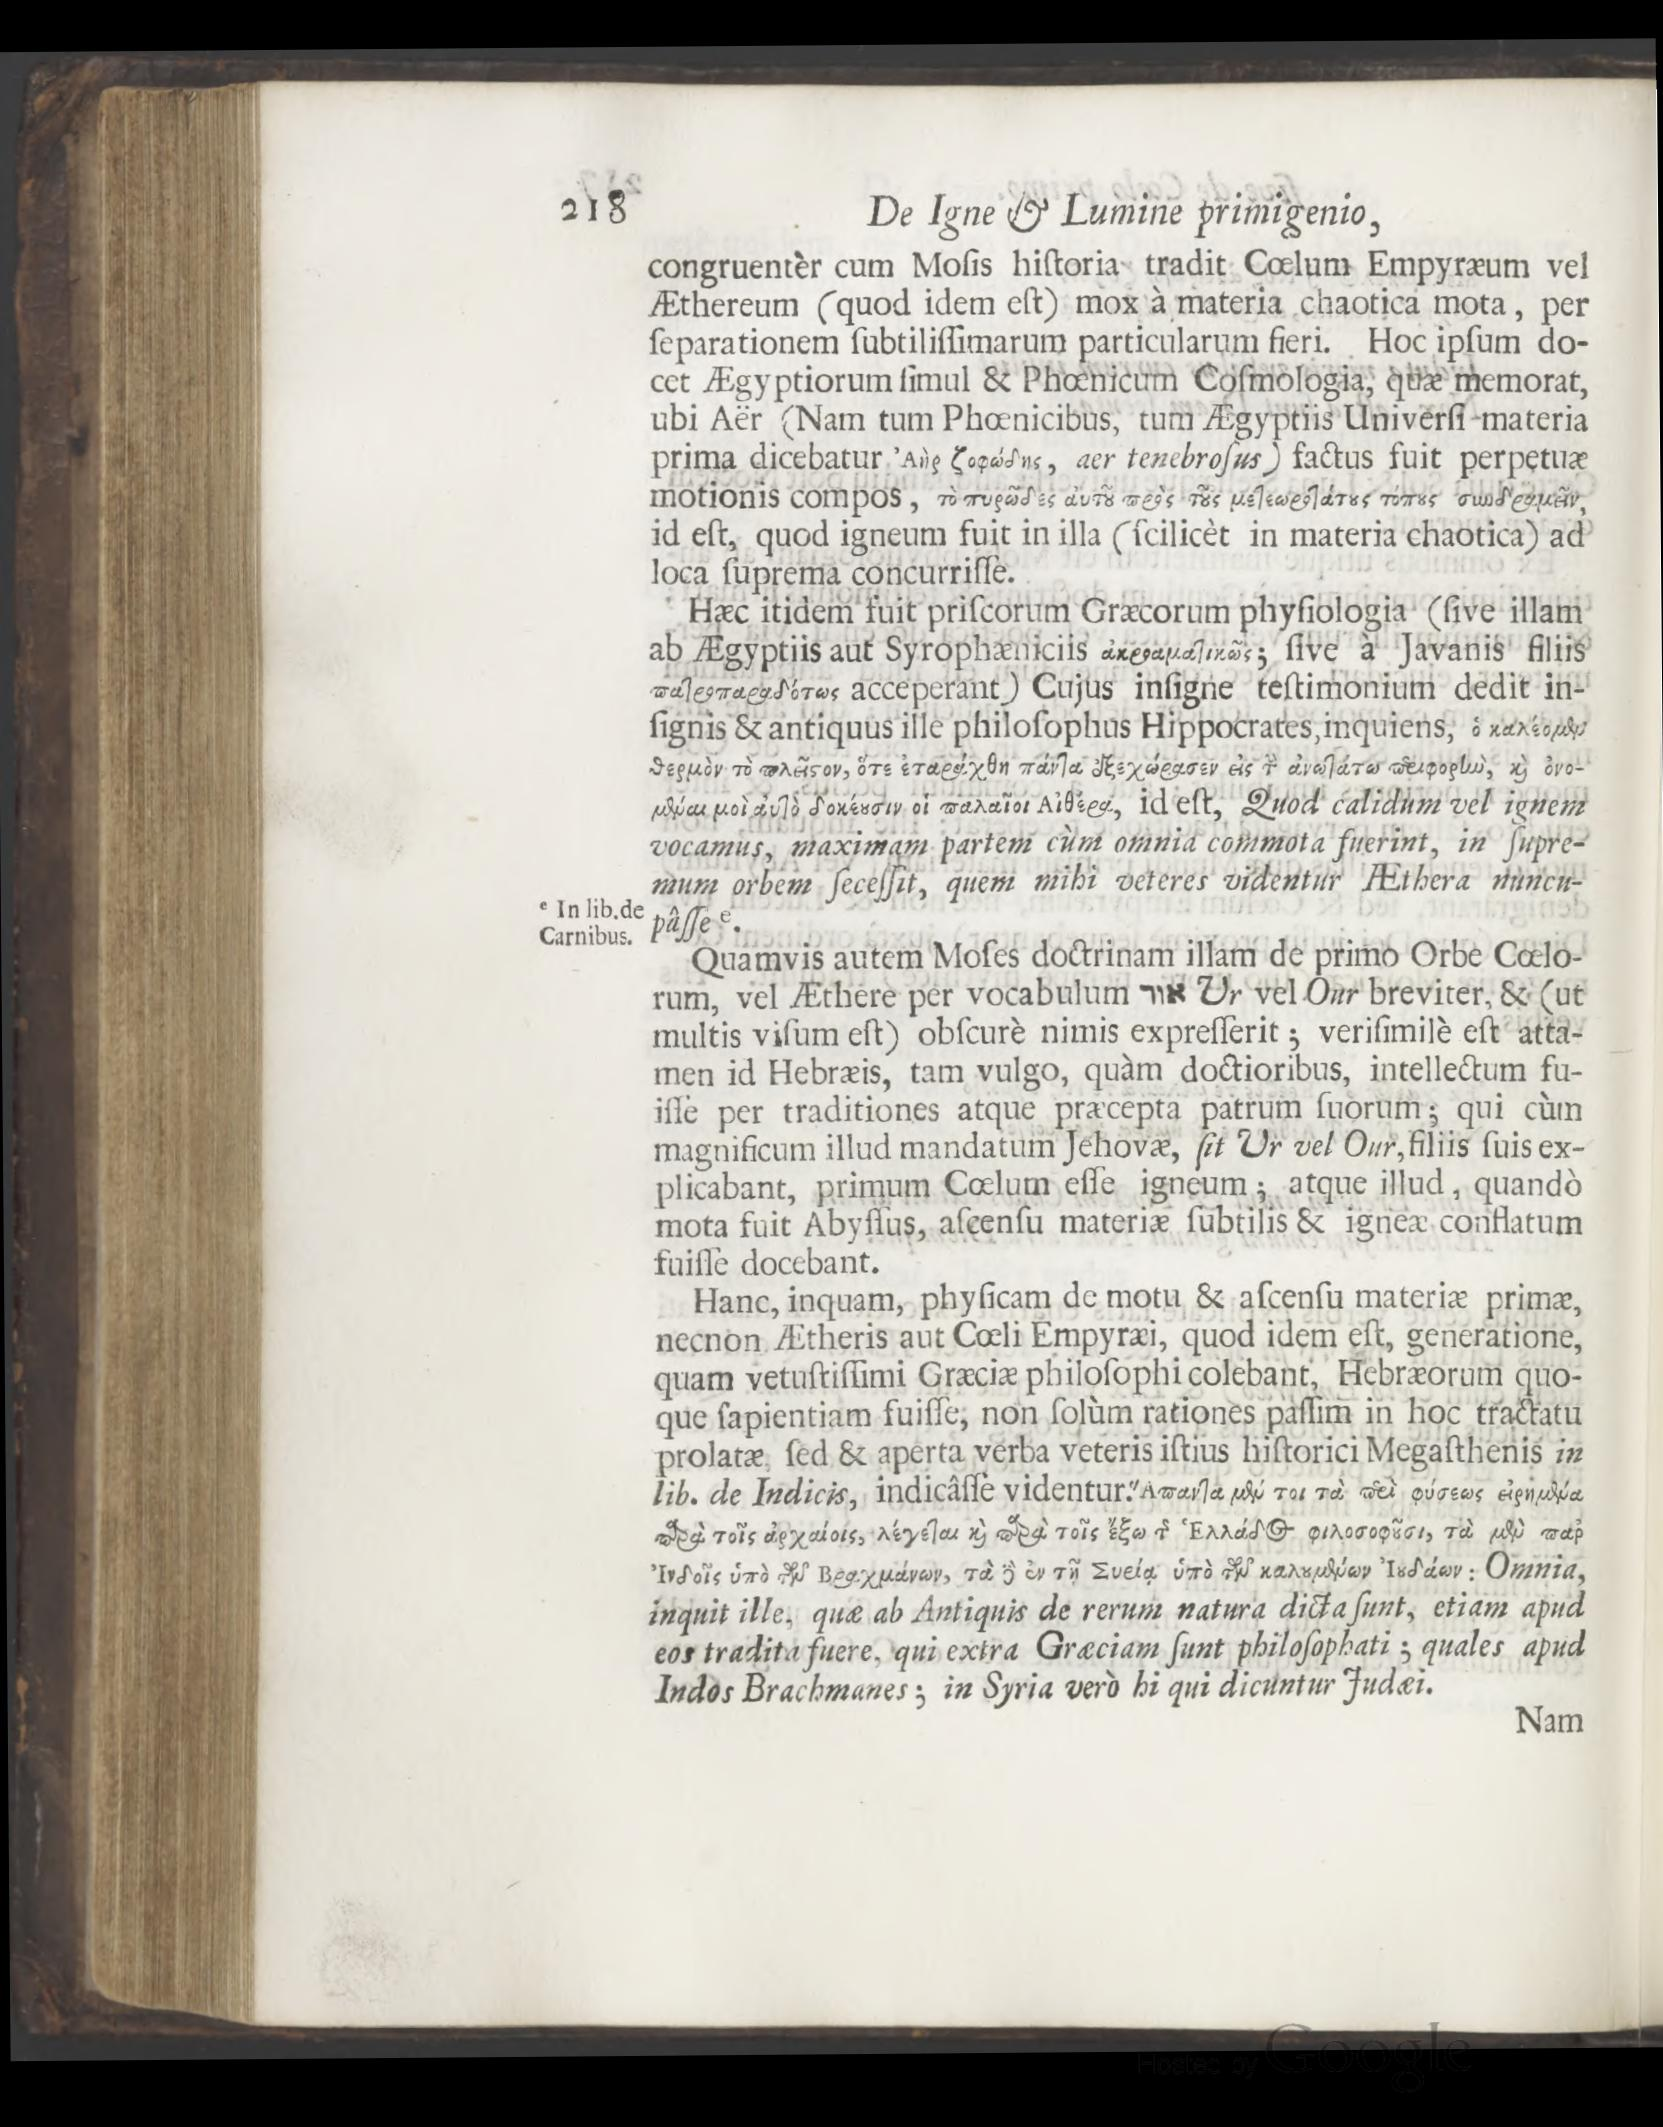bottom_p: (642, 247, 1597, 587)
catchword: (1514, 1706, 1587, 1737)
full_p: (649, 1279, 1587, 1707), (648, 590, 1596, 939), (653, 939, 1590, 1279)
header: (862, 180, 1387, 240)
page_num: (554, 185, 641, 228)
print_marg: (530, 891, 648, 950)
